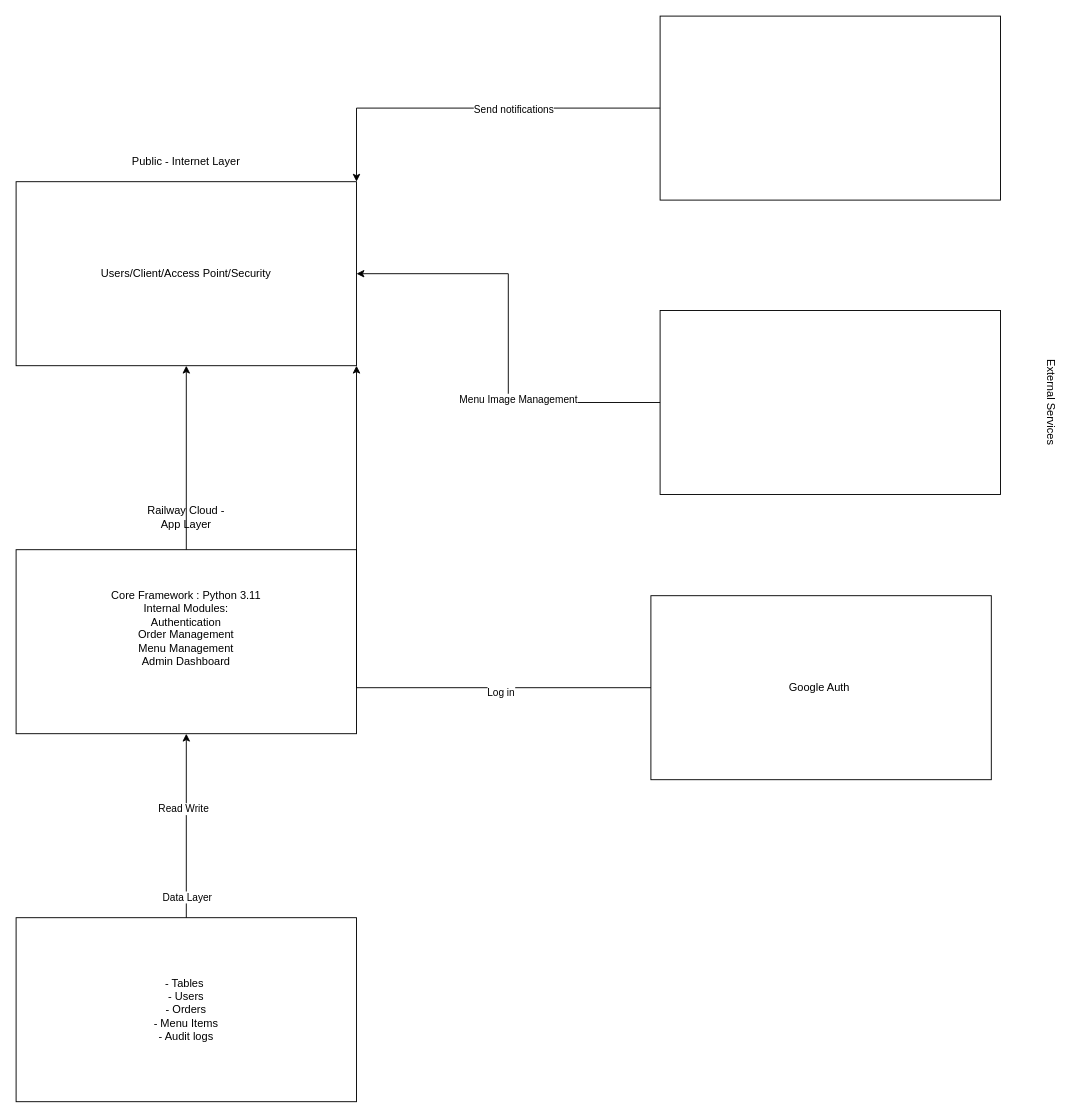
This 1081x1118 diagram has some shape labels left out. The centre of each missing label's shape, as x and y in pixels:
Cloud Storage Cloudinary: point (829, 402)
SMTP SERVER: point (829, 107)
